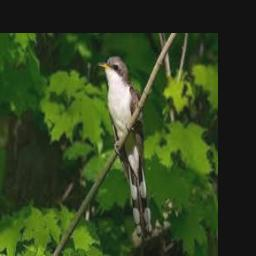Cuckoo: (98, 56, 153, 238)
